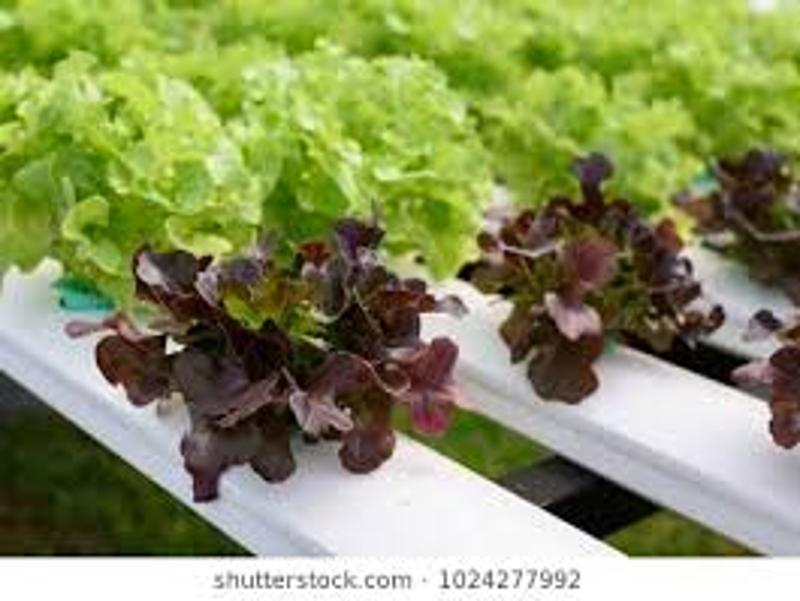green lettuce: (248, 45, 495, 278), (50, 66, 278, 298), (476, 69, 718, 206)
red lettuce: (128, 233, 461, 474), (490, 151, 709, 397)
